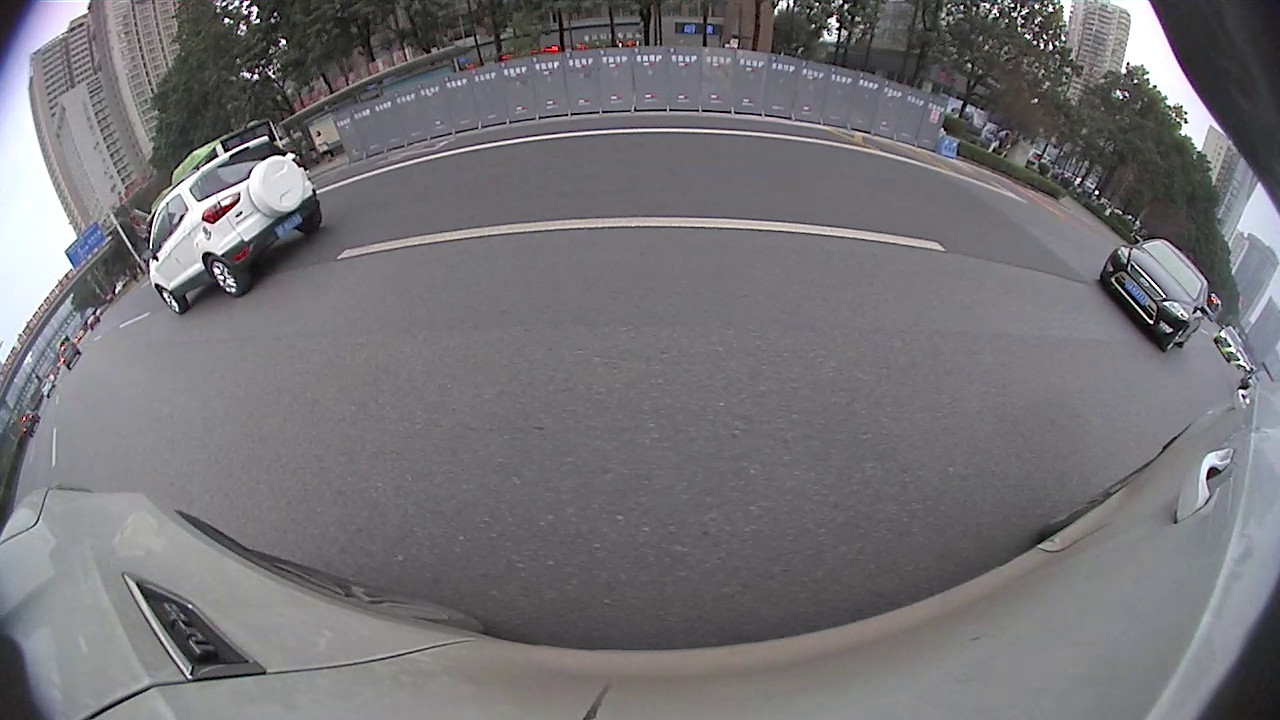bus: (884, 1, 1279, 447), (759, 131, 883, 201)
car: (252, 122, 505, 287), (510, 123, 684, 246), (734, 150, 865, 221), (685, 162, 733, 196), (485, 162, 512, 206)
front: (925, 217, 1015, 320), (481, 186, 505, 227), (731, 177, 741, 203)
rear: (387, 204, 430, 268), (764, 183, 778, 215)
